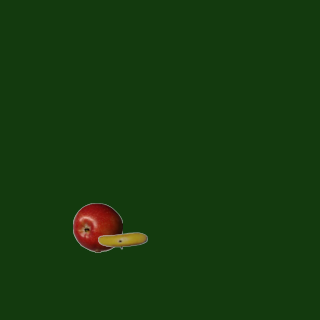Apple Braeburn: (72, 202, 122, 252)
Banana: (97, 215, 147, 265)
